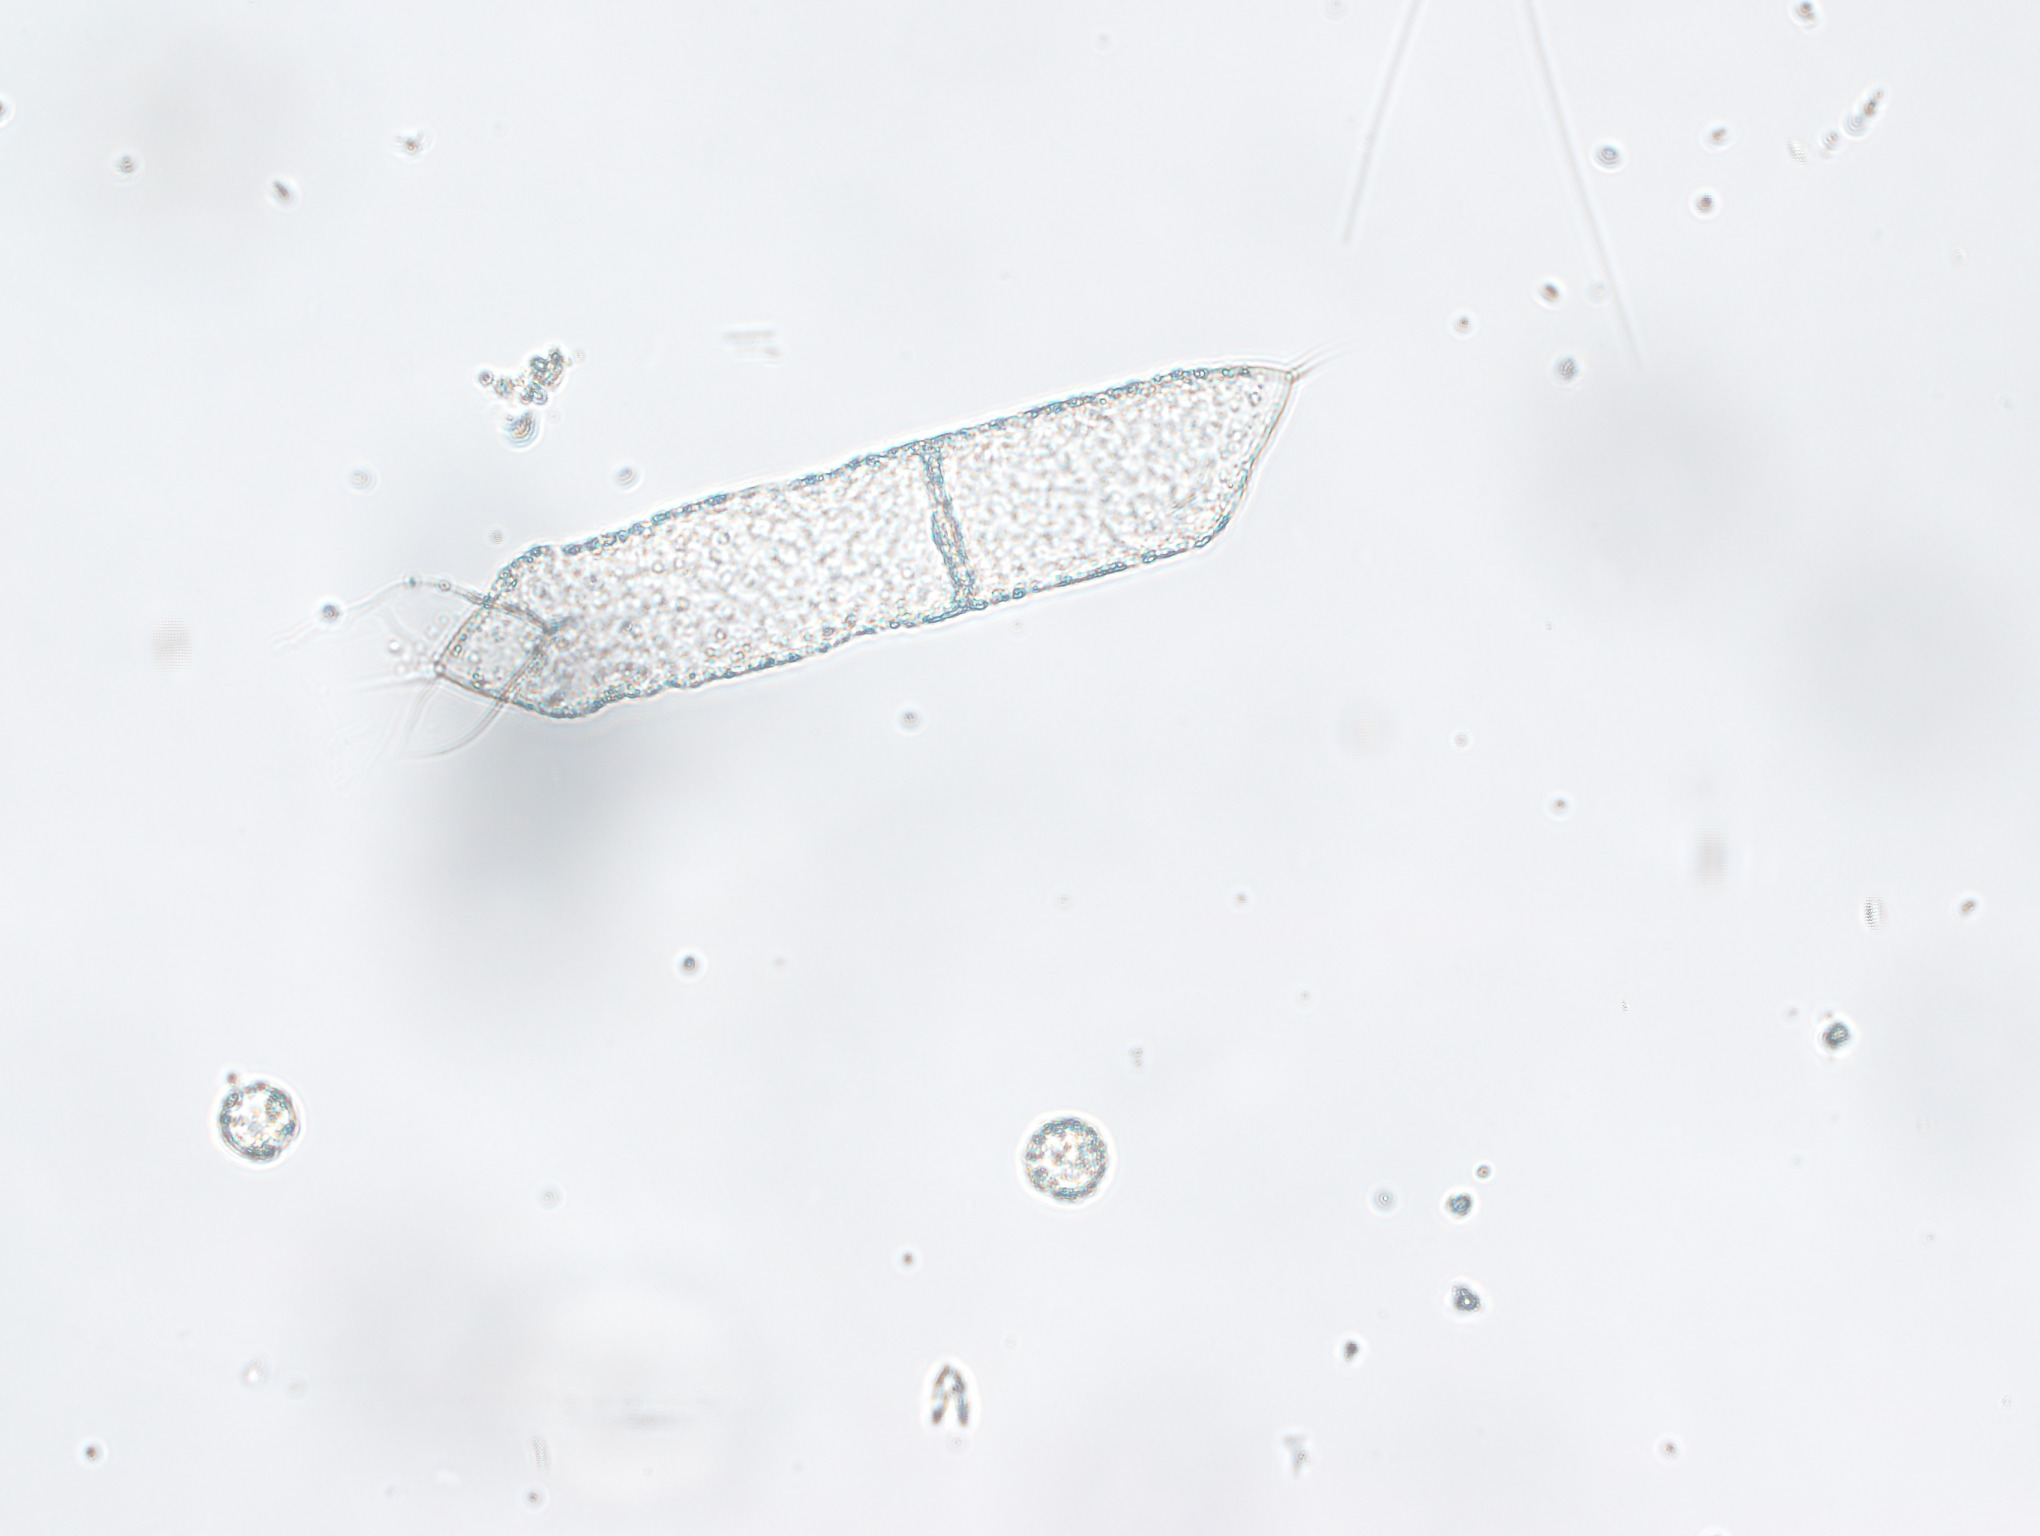rhizosolenia: (389, 316, 1359, 737)
